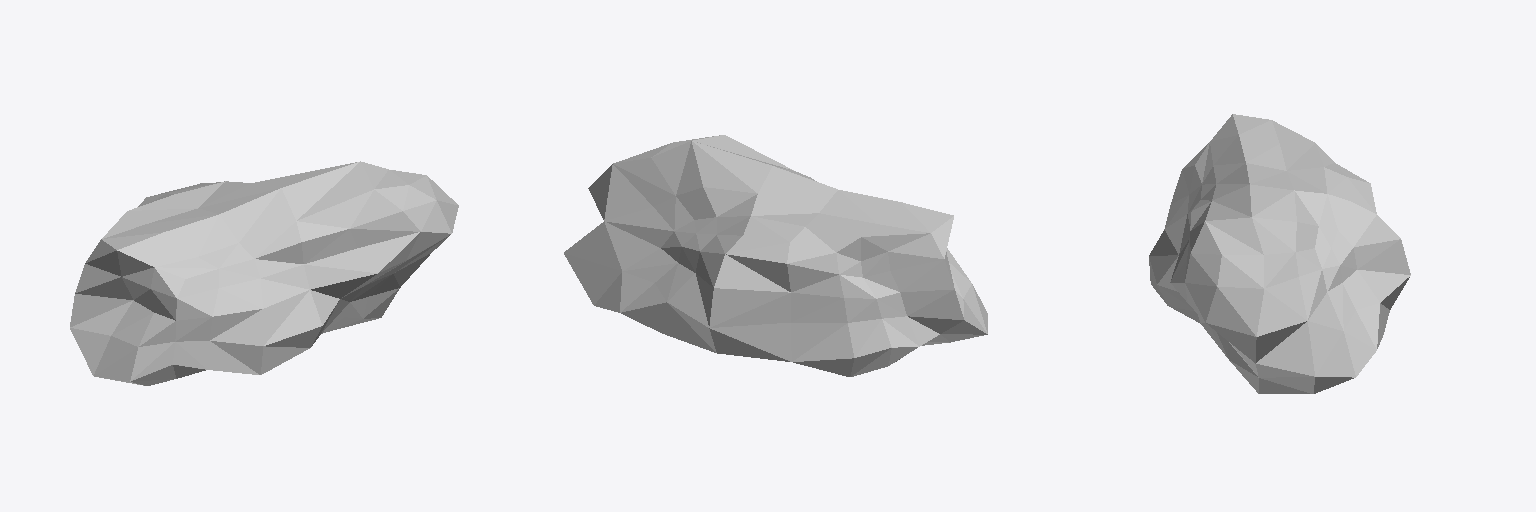
File: rock3.obj
3 renders of one model, left to right at view 1: azimuth 30°, elevation 25°; view 2: azimuth 150°, elevation 25°; view 3: azimuth 270°, elevation 25°, orthographic.
Visible parts, largest first — view 1: Mesh; view 2: Mesh; view 3: Mesh.
Boxes of the visible parts, x1,y1,x2,y2 form: Mesh: [70, 161, 458, 385]; Mesh: [564, 135, 987, 376]; Mesh: [1149, 114, 1410, 393].
Bounding box in the file's own units: 4.99 × 2.06 × 2.96.